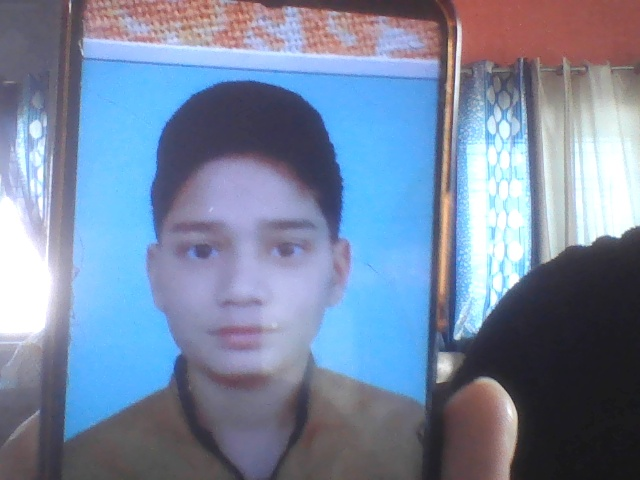fake: (131, 78, 366, 411)
